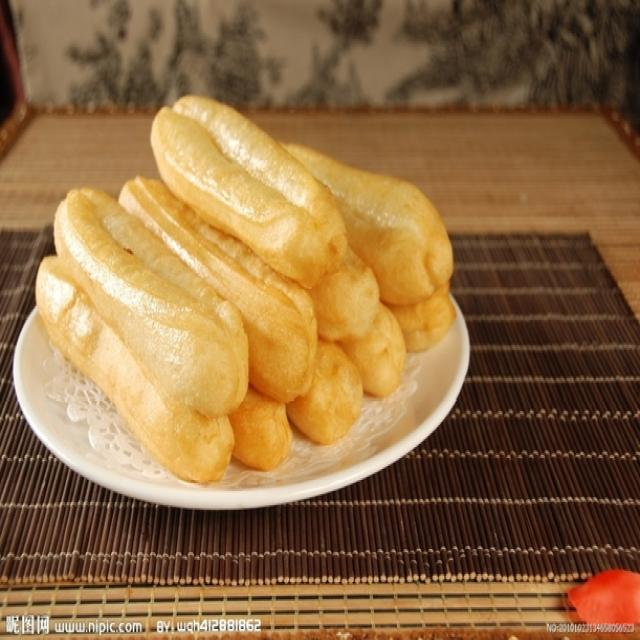炸货点心: (40, 82, 504, 514)
